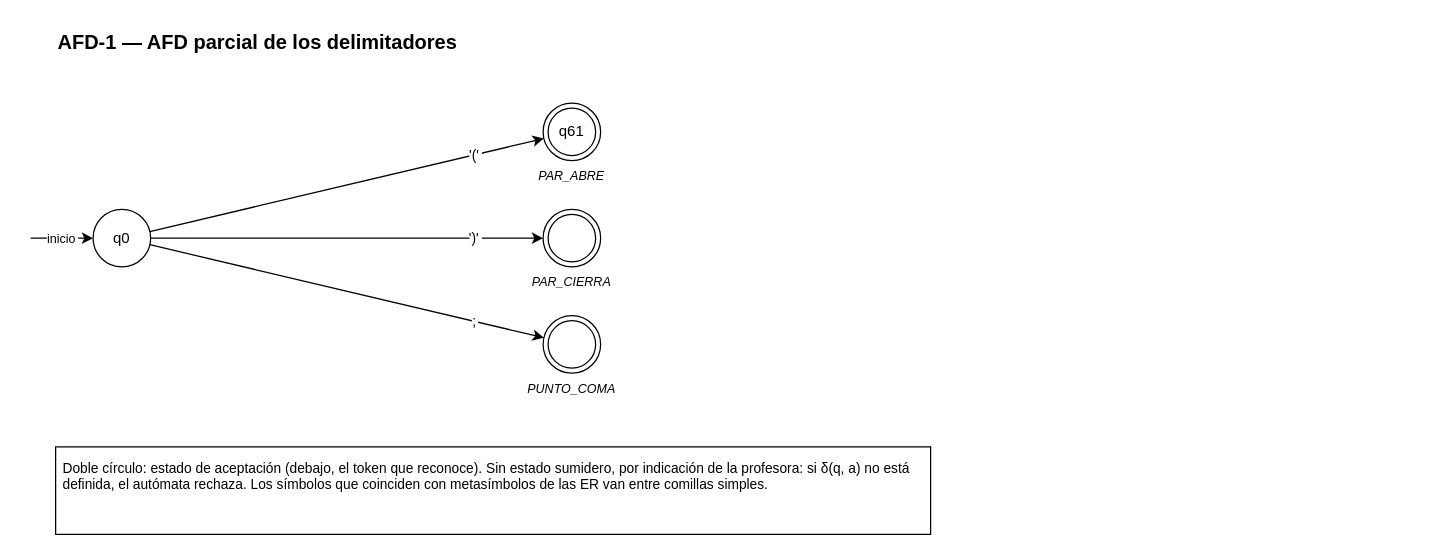
Some shapes in this 1453 by 556 pixel diagram are drawn without their labels. Here are the shapes that lost their labels. From the top down, the centre of each, then its label:
point (571, 237): q62
point (571, 343): q63
